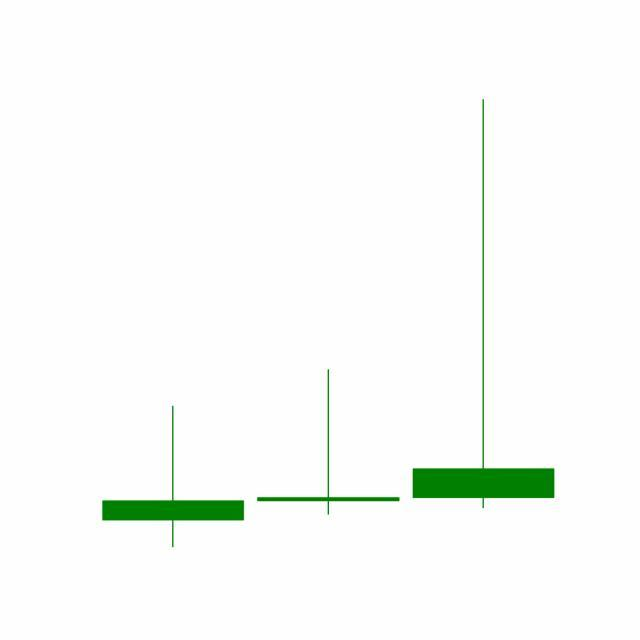Gravestone Doji: (250, 368, 407, 517)
